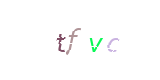C: (55, 0, 135, 80)
F: (39, 0, 119, 80)
T: (20, 0, 100, 80)
V: (42, 0, 122, 80)
